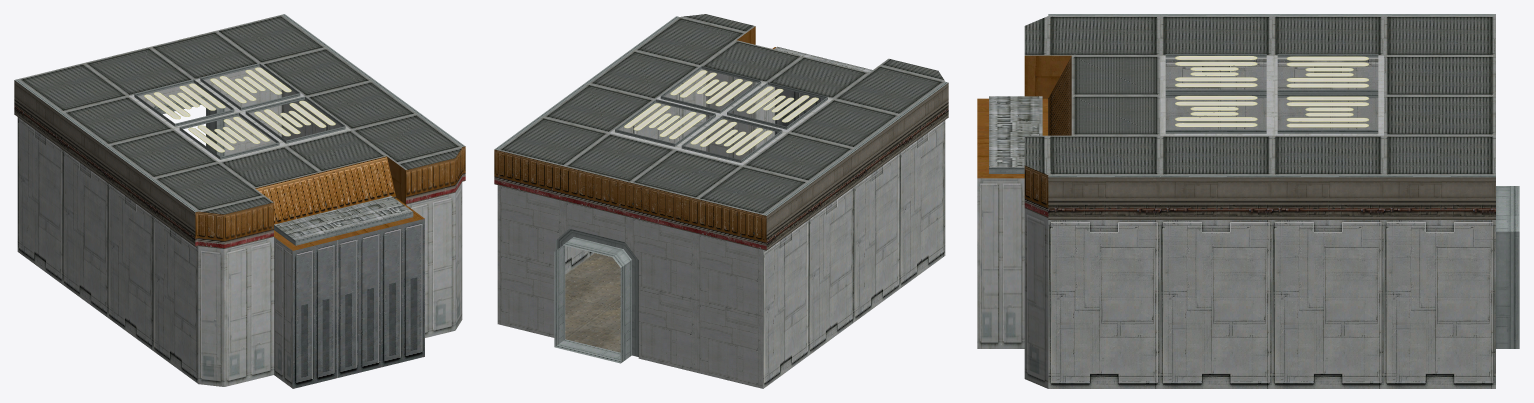
The model's file is mun_all_military_base_police_station_rebl_s01_r3_meeting2_mesh_r3.fbx.
The picture shows the model from 3 angles, left to right: view 1: azimuth 30°, elevation 25°; view 2: azimuth 150°, elevation 25°; view 3: azimuth 270°, elevation 25°; orthographic projection. The views are drawn at different scales.
Parts seen in each view (by area): view 1: mesh_node; view 2: mesh_node; view 3: mesh_node.
Part boxes in pixels (left/top/right/bottom): mesh_node: left=14, top=14, right=465, bottom=388; mesh_node: left=494, top=14, right=948, bottom=388; mesh_node: left=977, top=14, right=1519, bottom=388.
Size of the model in its own units: 8.2 by 5.09 by 11.5.
